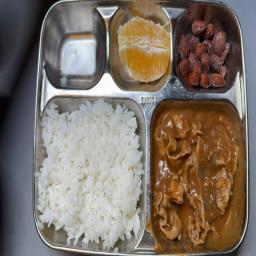100_beef: (150, 103, 239, 242)
100_nuts: (175, 18, 232, 90)
100_orange: (114, 7, 172, 84)
100_rice: (38, 100, 144, 248)
empty: (48, 17, 98, 83)
